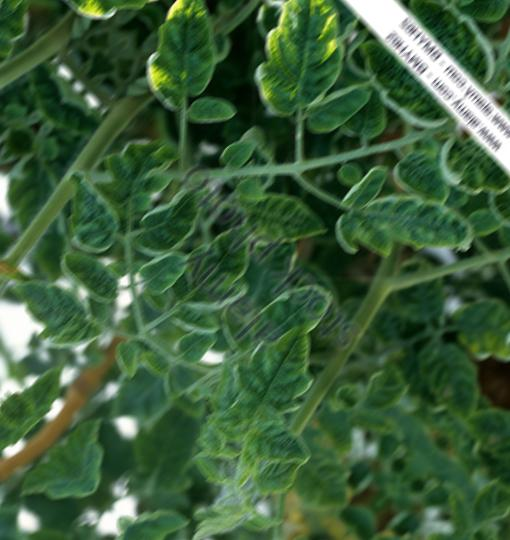Tomato leaf yellow virus: (307, 130, 484, 309), (198, 0, 389, 134), (194, 297, 350, 452), (102, 0, 267, 131), (152, 200, 291, 337), (412, 103, 510, 249), (232, 254, 349, 370), (23, 148, 139, 265), (117, 160, 230, 272), (224, 169, 331, 276), (285, 53, 388, 156), (233, 396, 320, 484), (117, 225, 201, 308), (43, 228, 123, 309)
